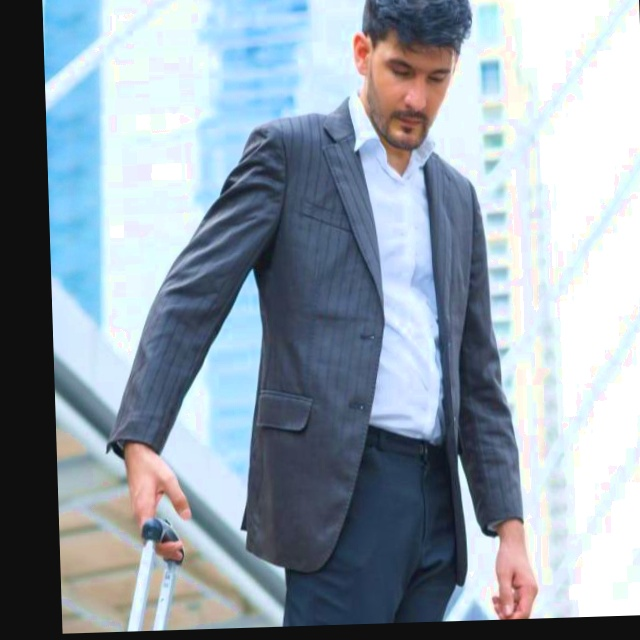Sin_Casco_Mascarrilla: (353, 0, 476, 152)
Sin_Chaleco: (254, 114, 494, 462)
